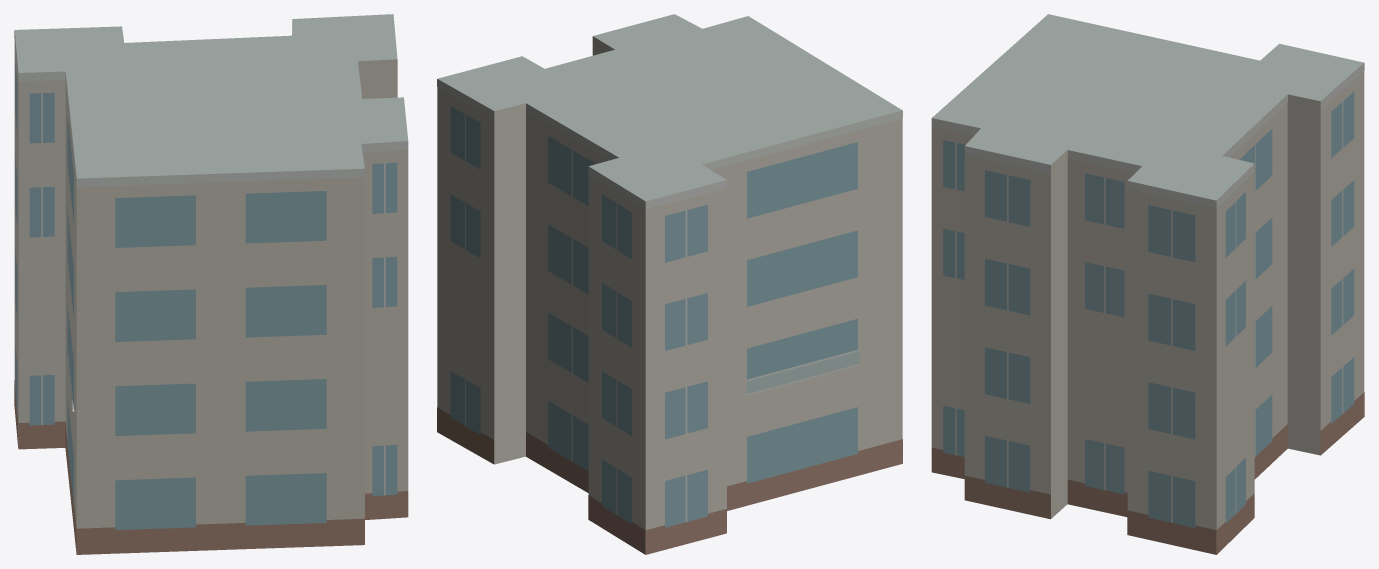
The model's file is survey-upis-32777859.glb.
3 renders of one model, left to right at view 1: azimuth 30°, elevation 25°; view 2: azimuth 150°, elevation 25°; view 3: azimuth 270°, elevation 25°, orthographic. The views are drawn at different scales.
Parts seen in each view (by area): view 1: survey-upis-32777859.tmp; view 2: survey-upis-32777859.tmp; view 3: survey-upis-32777859.tmp.
Part boxes in pixels (bbox=[...]): survey-upis-32777859.tmp: bbox=[14, 14, 408, 554]; survey-upis-32777859.tmp: bbox=[437, 14, 902, 554]; survey-upis-32777859.tmp: bbox=[931, 14, 1364, 554].
Size of the model in its own units: 11.99 by 10.6 by 11.74.
